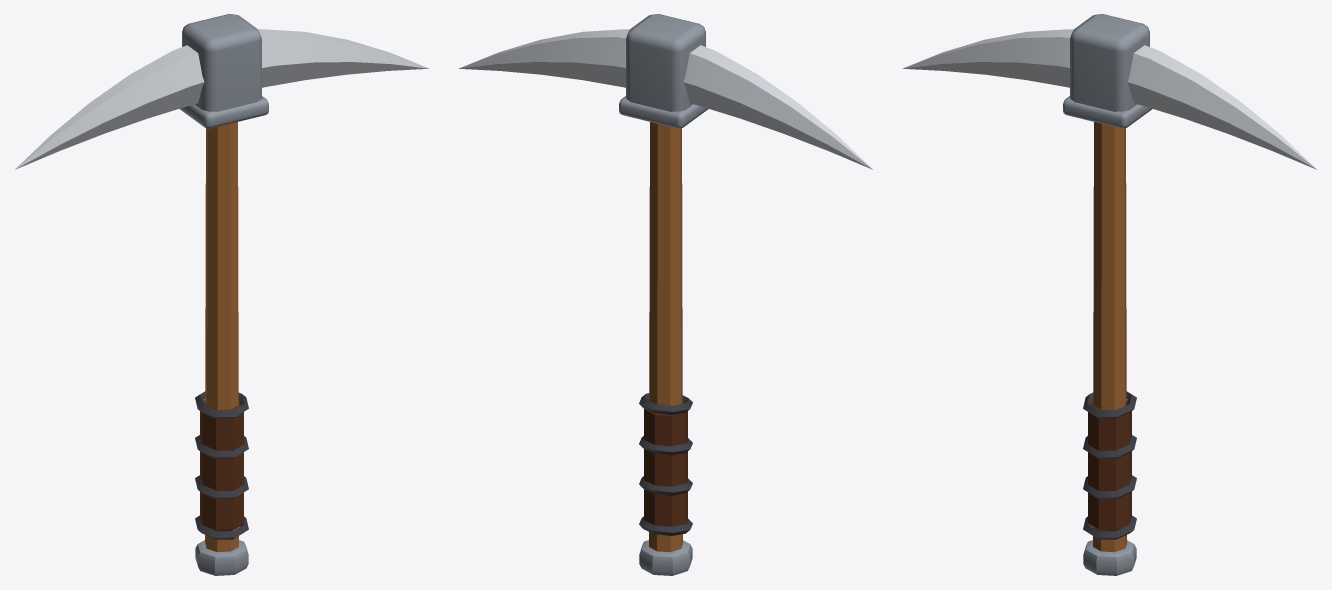
The model's file is IronPickaxe.fbx.
3 renders of one model, left to right at view 1: azimuth 30°, elevation 25°; view 2: azimuth 150°, elevation 25°; view 3: azimuth 330°, elevation 25°, orthographic.
Parts seen in each view (by area): view 1: IronPickaxe; view 2: IronPickaxe; view 3: IronPickaxe.
Part boxes in pixels (x1,y1,x2,y2): IronPickaxe: (15, 14, 428, 575); IronPickaxe: (459, 14, 872, 575); IronPickaxe: (903, 14, 1316, 575).
Size of the model in its own units: 2.7 by 3.36 by 0.38.
1 material, 1 textured.
